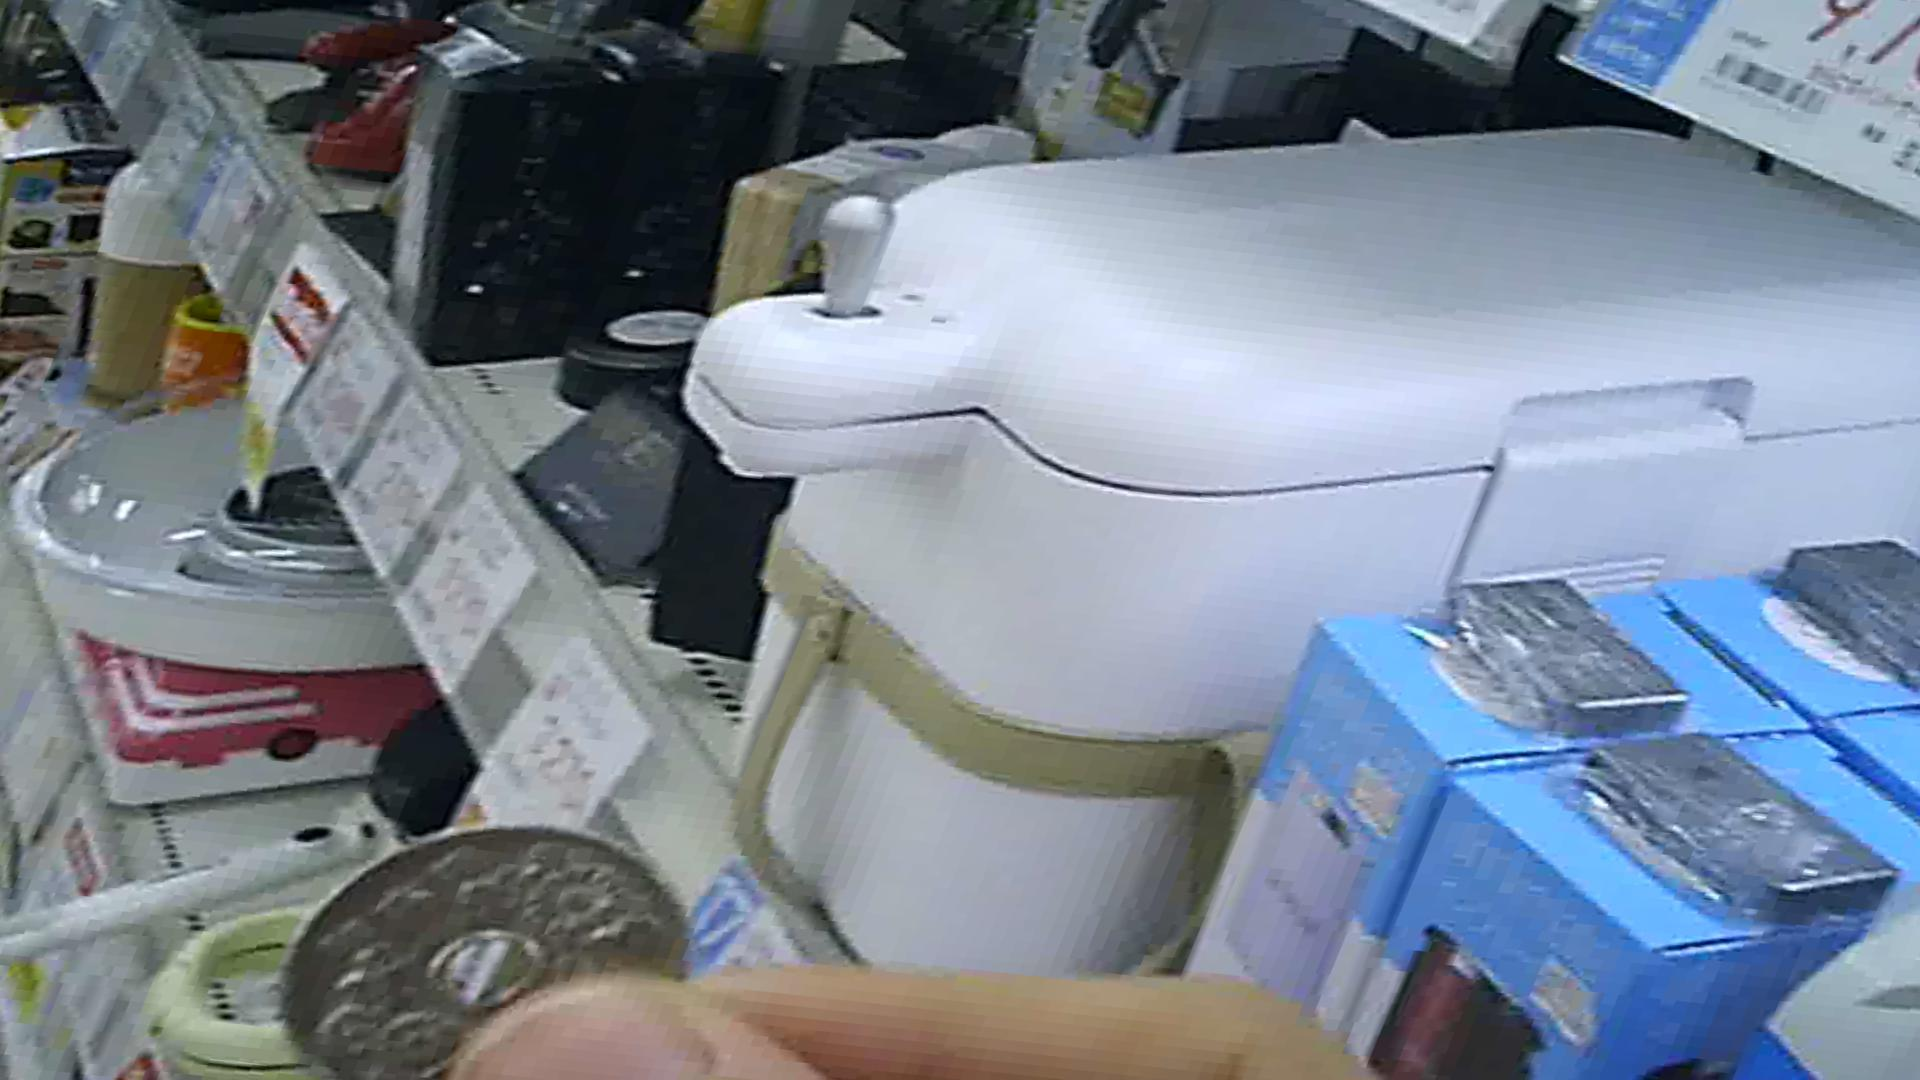50 Yen: (276, 827, 702, 1058)
